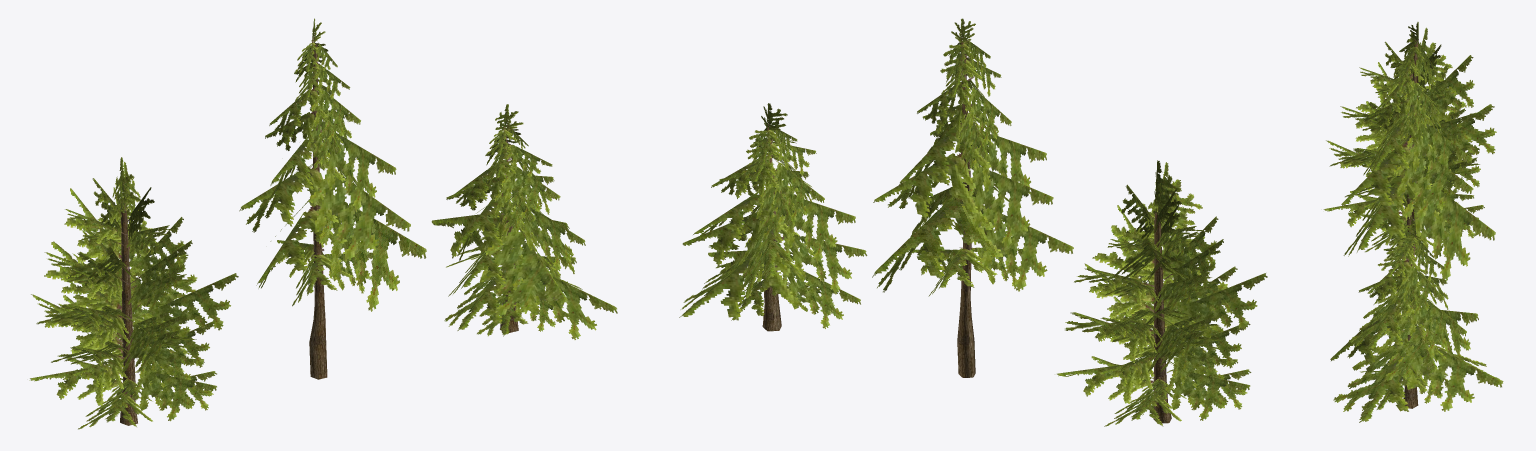
File: arvores_psx.glb
3 views of the same model, side by side, from view 1: azimuth 30°, elevation 25°; view 2: azimuth 150°, elevation 25°; view 3: azimuth 270°, elevation 25° (orthographic). The views are drawn at different scales.
Parts seen in each view (by area): view 1: Tree_Pine_T1, Tree_Pine_T2, Tree_Pine_T3; view 2: Tree_Pine_T1, Tree_Pine_T2, Tree_Pine_T3; view 3: Tree_Pine_T3, Tree_Pine_T2, Tree_Pine_T1.
Boxes of the visible parts, x1=… form: Tree_Pine_T1: x1=29, y1=157, x2=238, y2=429; Tree_Pine_T2: x1=239, y1=18, x2=426, y2=379; Tree_Pine_T3: x1=431, y1=104, x2=617, y2=339; Tree_Pine_T1: x1=1057, y1=160, x2=1267, y2=426; Tree_Pine_T2: x1=872, y1=18, x2=1073, y2=377; Tree_Pine_T3: x1=679, y1=103, x2=867, y2=331; Tree_Pine_T3: x1=1330, y1=215, x2=1503, y2=422; Tree_Pine_T2: x1=1341, y1=23, x2=1495, y2=280; Tree_Pine_T1: x1=1323, y1=22, x2=1496, y2=252.
Bounding box in the file's own units: 30.74 × 17.92 × 11.17.
Materials: 1 (1 with a texture image).
